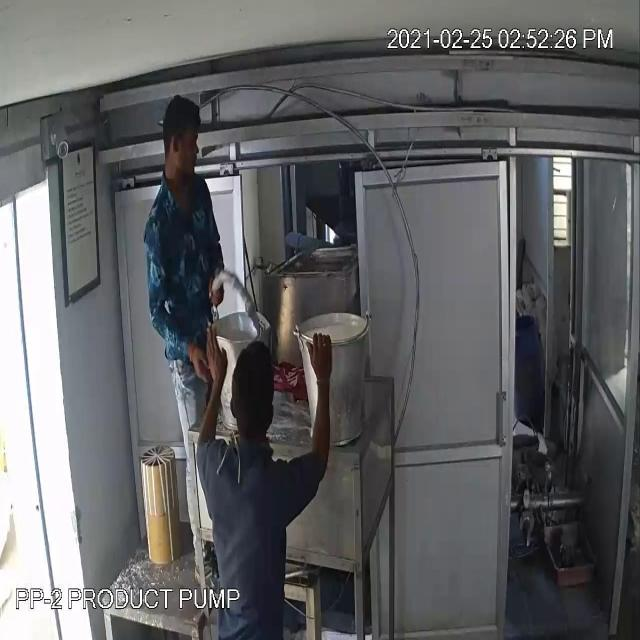no-helmet: (227, 337, 283, 419), (159, 89, 209, 158)
